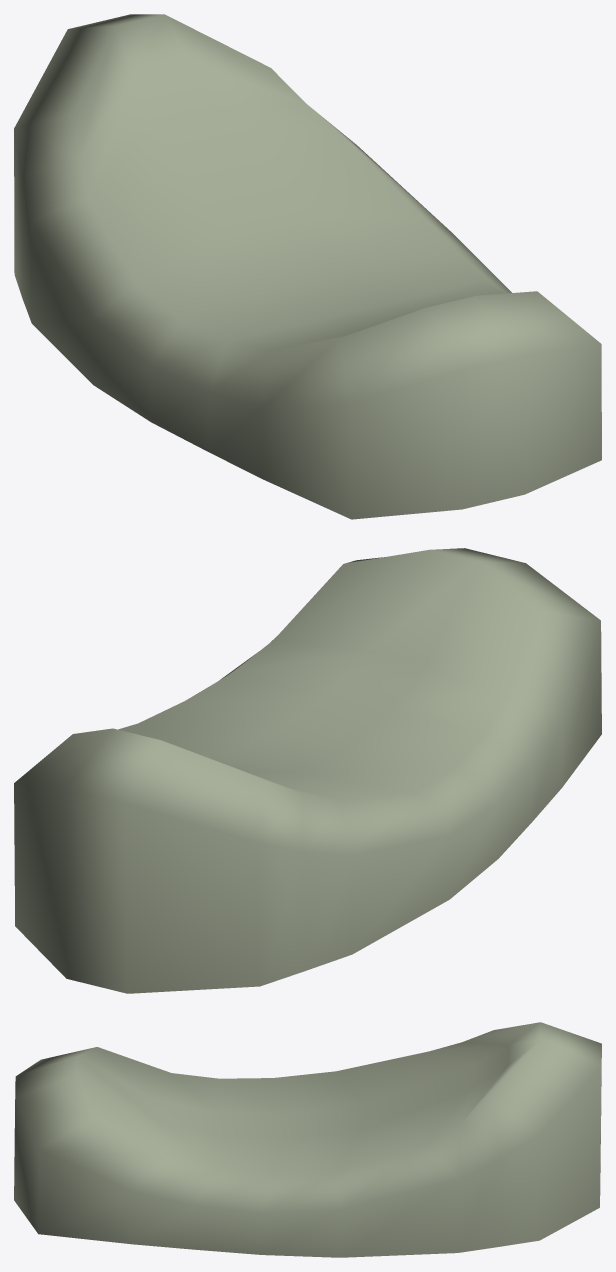
Rendered from SM_TV_Button.fbx.
The picture shows the model from 3 angles, top to bottom: view 1: azimuth 30°, elevation 25°; view 2: azimuth 150°, elevation 25°; view 3: azimuth 270°, elevation 25°; orthographic projection. The views are drawn at different scales.
Parts seen in each view (by area): view 1: SM_Bouton_TV_LP; view 2: SM_Bouton_TV_LP; view 3: SM_Bouton_TV_LP.
Boxes of the visible parts, x1=… form: SM_Bouton_TV_LP: x1=14, y1=14, x2=601, y2=519; SM_Bouton_TV_LP: x1=14, y1=548, x2=601, y2=993; SM_Bouton_TV_LP: x1=14, y1=1022, x2=601, y2=1257.
Bounding box in the file's own units: 37.42 × 22.47 × 72.3.
